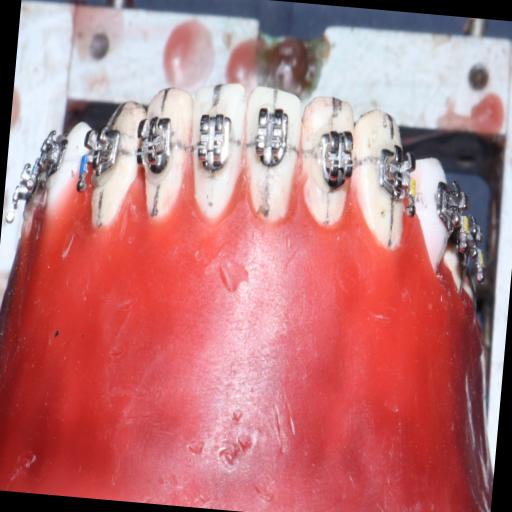correct_brace: (193, 111, 235, 176)
incorrect_brace: (247, 100, 296, 179)
